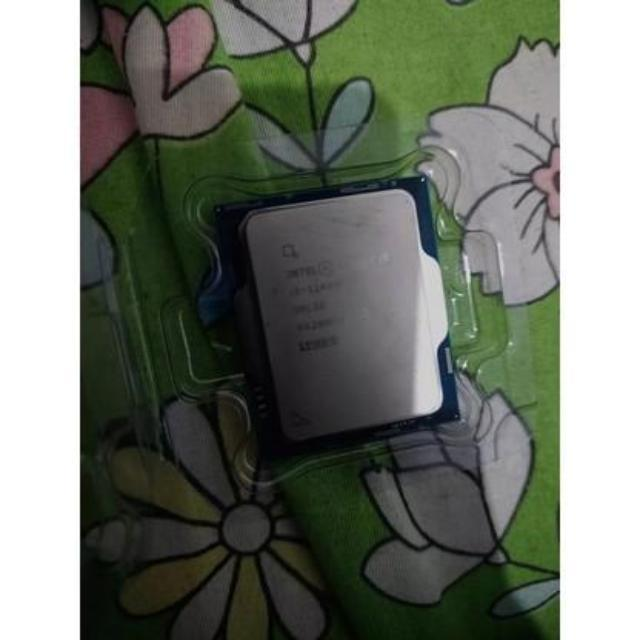CPU: (234, 190, 451, 439)
